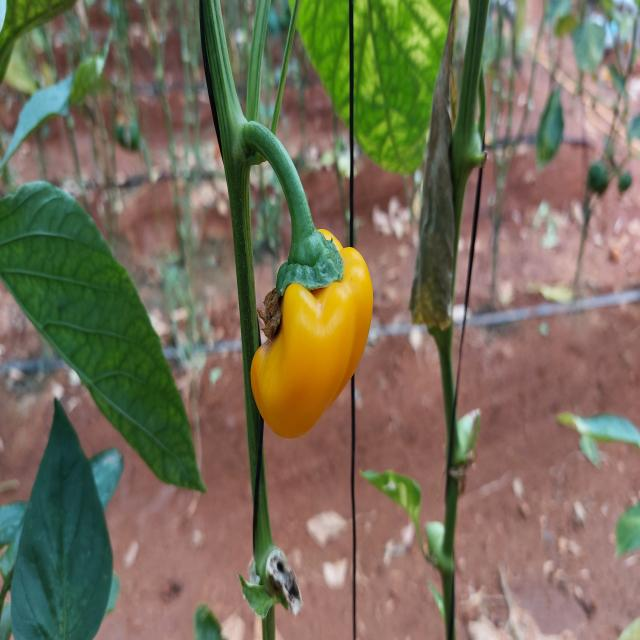Yellow-Ready-to-Harvest: (251, 230, 375, 444)
